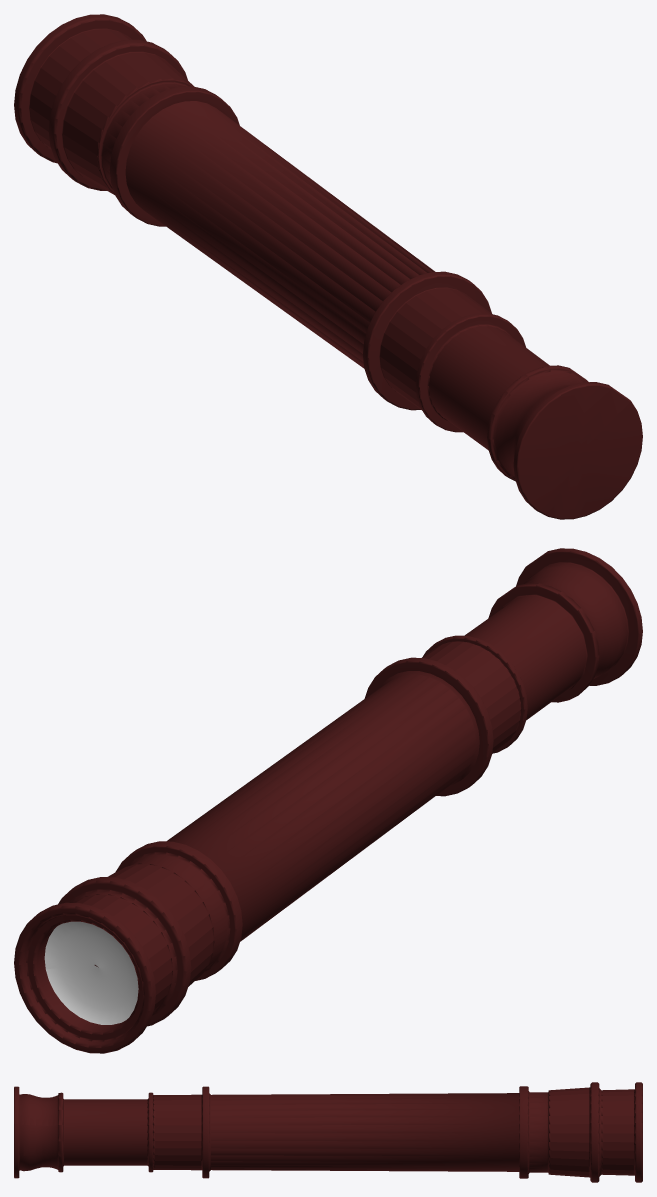
Rendered from telescope.glb.
The picture shows the model from 3 angles, top to bottom: view 1: azimuth 30°, elevation 25°; view 2: azimuth 150°, elevation 25°; view 3: azimuth 270°, elevation 25°; orthographic projection. The views are drawn at different scales.
Parts seen in each view (by area): view 1: elescope; view 2: elescope; view 3: elescope.
Boxes of the visible parts, bbox=[...] form: elescope: bbox=[14, 14, 642, 519]; elescope: bbox=[14, 548, 642, 1053]; elescope: bbox=[14, 1082, 642, 1182].
Bounding box in the file's own units: 0.0132 × 0.0131 × 0.0823.
